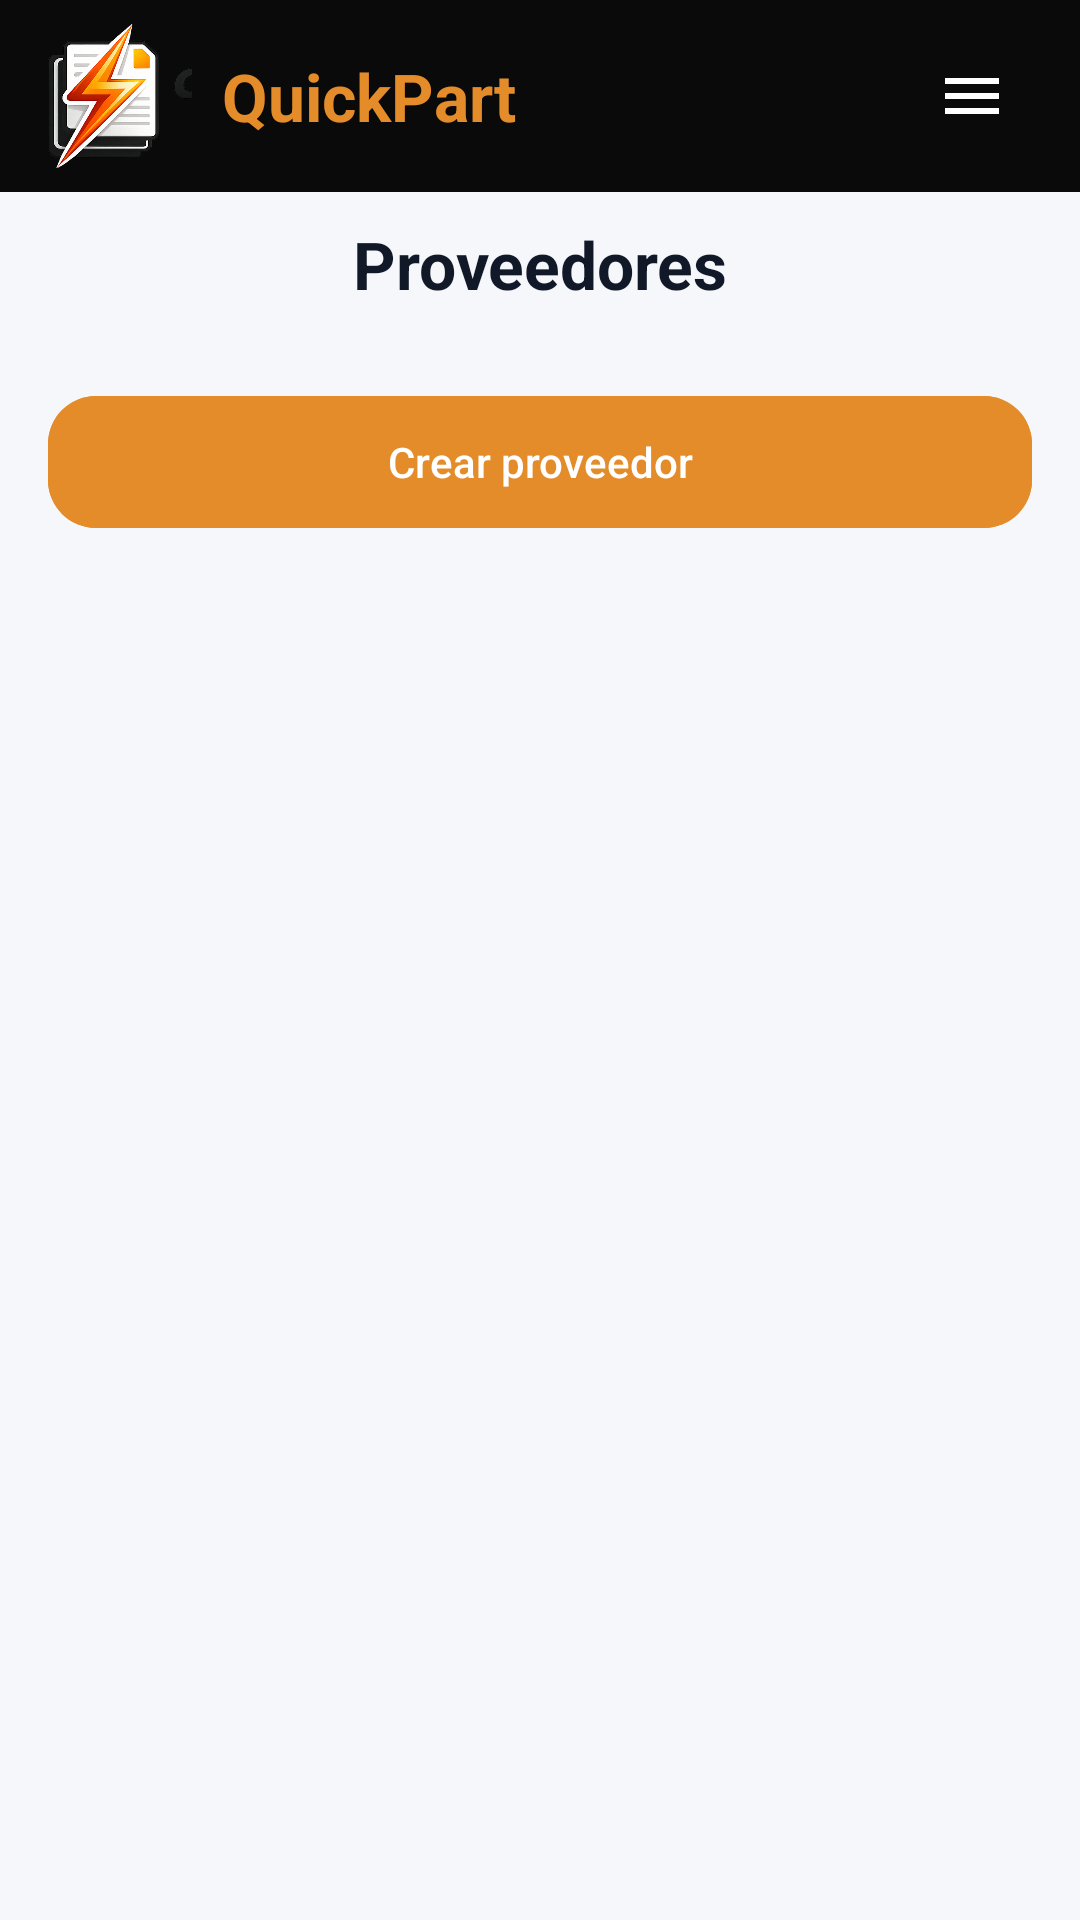

Screen size 1080px×1920px. Icon name, then its box in pixels as (x1,y1,x2,y2):
Menu: (945,78,999,114)
